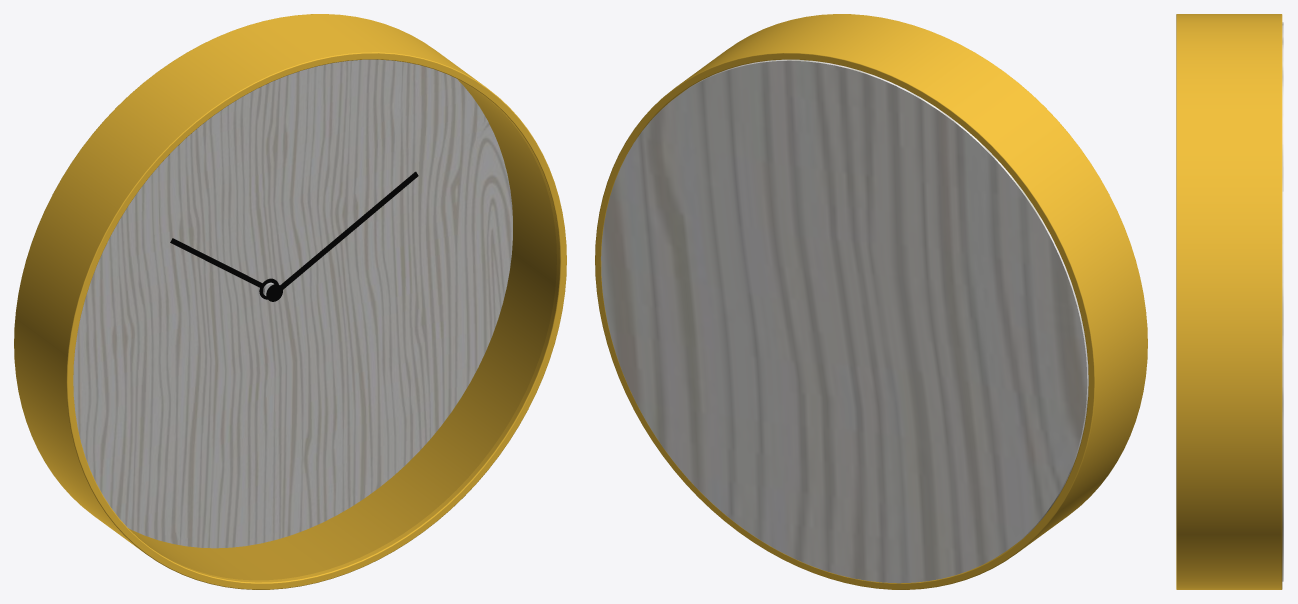
Rendered from Clock3.FBX.
3 renders of one model, left to right at view 1: azimuth 30°, elevation 25°; view 2: azimuth 150°, elevation 25°; view 3: azimuth 270°, elevation 25°, orthographic.
Parts seen in each view (by area): view 1: glass, back, border, hand_upl, hand_down; view 2: back, border; view 3: border, back.
Boxes of the visible parts, x1,y1,x2,y2 form: glass: (74, 60, 556, 579); back: (73, 59, 512, 548); border: (14, 14, 566, 589); hand_upl: (266, 171, 418, 301); hand_down: (170, 238, 278, 299); back: (601, 59, 1088, 583); border: (595, 14, 1147, 589); border: (1176, 14, 1282, 589); back: (1282, 22, 1283, 581).
Bounding box in the file's own units: 24.1 × 24.1 × 4.5.
Materials: 6 (1 with a texture image).
